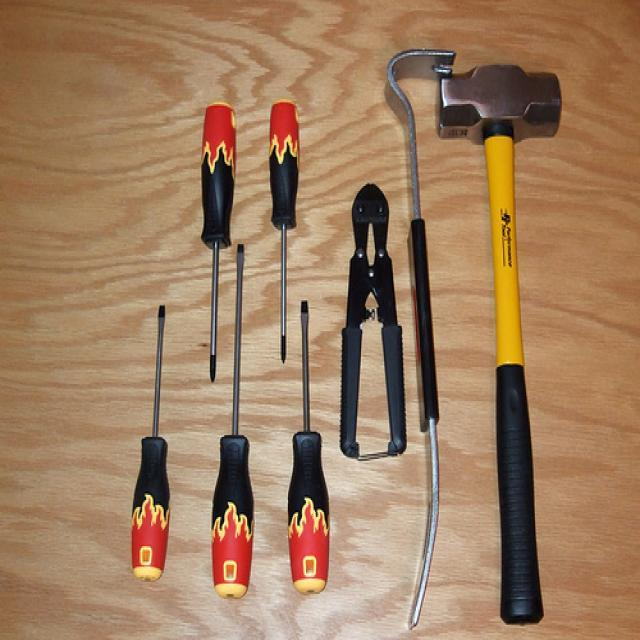hammer: (436, 54, 586, 632)
pliers: (334, 164, 419, 476)
screwdriver: (208, 238, 256, 610), (284, 291, 338, 601), (124, 291, 178, 589), (193, 90, 241, 385), (258, 83, 306, 370)
